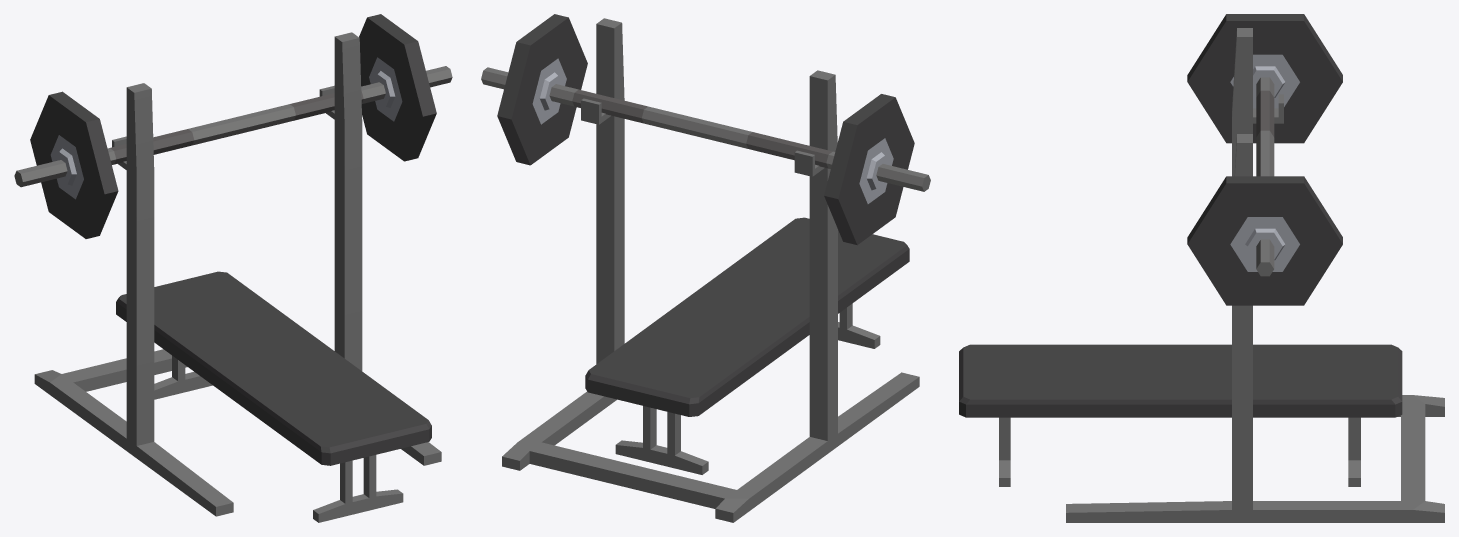
File: SM_Prop_Benchpress_01.fbx
3 views of the same model, side by side, from view 1: azimuth 30°, elevation 25°; view 2: azimuth 150°, elevation 25°; view 3: azimuth 270°, elevation 25° (orthographic). The views are drawn at different scales.
Parts seen in each view (by area): view 1: SM_Prop_Benchpress_01; view 2: SM_Prop_Benchpress_01; view 3: SM_Prop_Benchpress_01.
Boxes of the visible parts, x1,y1,x2,y2 form: SM_Prop_Benchpress_01: (14,14,452,522); SM_Prop_Benchpress_01: (481,14,930,522); SM_Prop_Benchpress_01: (959,14,1444,522).
Bounding box in the file's own units: 186 × 151 × 175.
